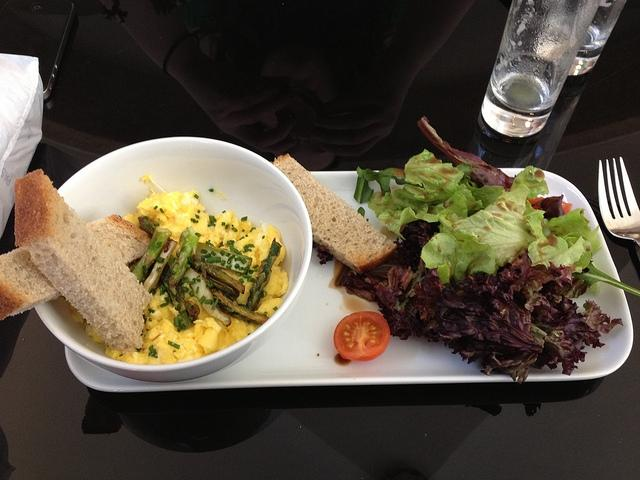asparagus: (245, 239, 281, 312), (210, 286, 270, 324), (132, 228, 172, 284), (142, 239, 178, 293), (169, 226, 200, 287), (191, 260, 245, 294), (195, 242, 252, 274), (175, 278, 187, 312)
lettuce: (402, 269, 546, 385), (368, 148, 504, 240), (438, 165, 549, 276), (416, 116, 516, 192), (523, 202, 601, 270)
tomato: (334, 311, 391, 362)
